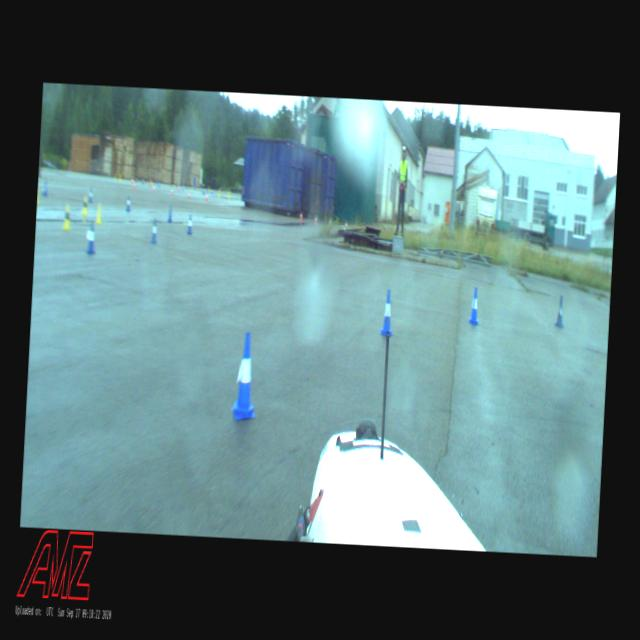blue_cone: (230, 330, 260, 420), (380, 290, 394, 336), (468, 288, 481, 326), (555, 296, 566, 327), (86, 223, 96, 252), (150, 220, 157, 242), (168, 203, 174, 223), (42, 178, 48, 196), (186, 216, 192, 233), (89, 185, 94, 203), (126, 197, 131, 212)
orange_cone: (187, 188, 191, 200), (205, 190, 209, 201), (170, 185, 174, 196), (152, 182, 156, 193), (132, 180, 136, 190), (148, 176, 152, 186), (314, 215, 318, 224), (300, 212, 303, 222), (345, 221, 348, 229), (178, 182, 180, 193)
yellow_cone: (63, 206, 71, 228), (95, 204, 102, 224), (82, 197, 88, 213), (37, 186, 40, 206), (118, 171, 122, 183), (228, 189, 232, 199), (218, 186, 221, 198)
